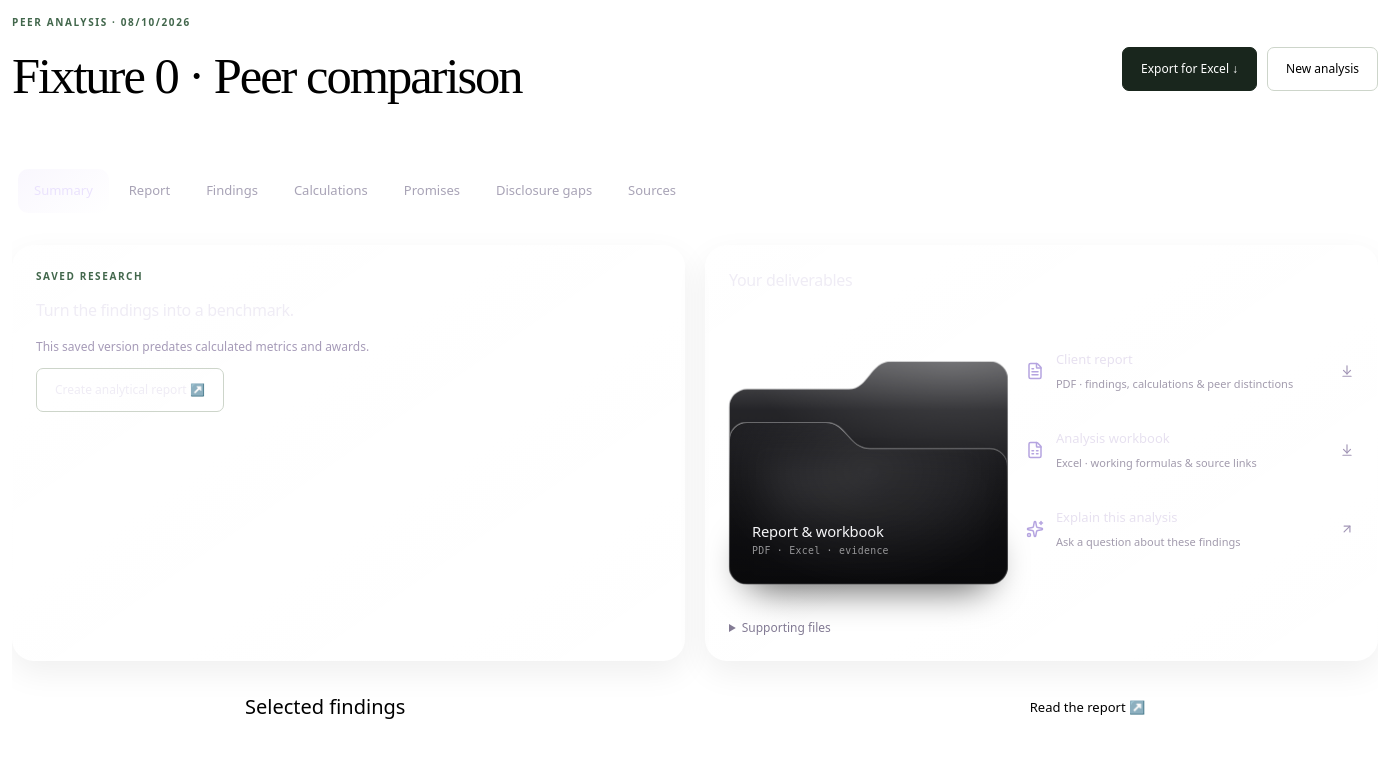
uses concise highlights with expandable detail and a topic filter
Click the button "Findings" at (232, 191), box [190,169,274,213]
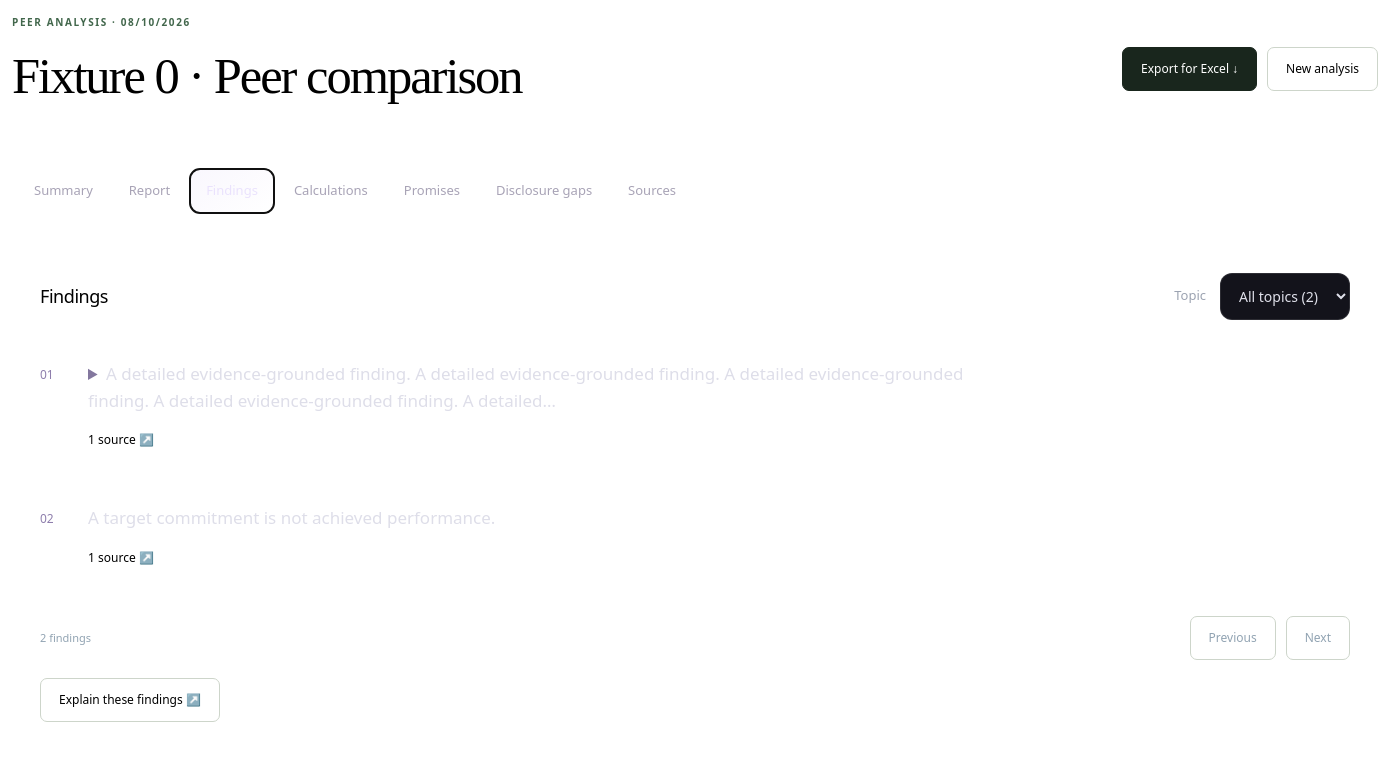
Select "Energy (1)" in the dropdown named "Finding topic" at (1285, 296), box [1220,273,1350,320]
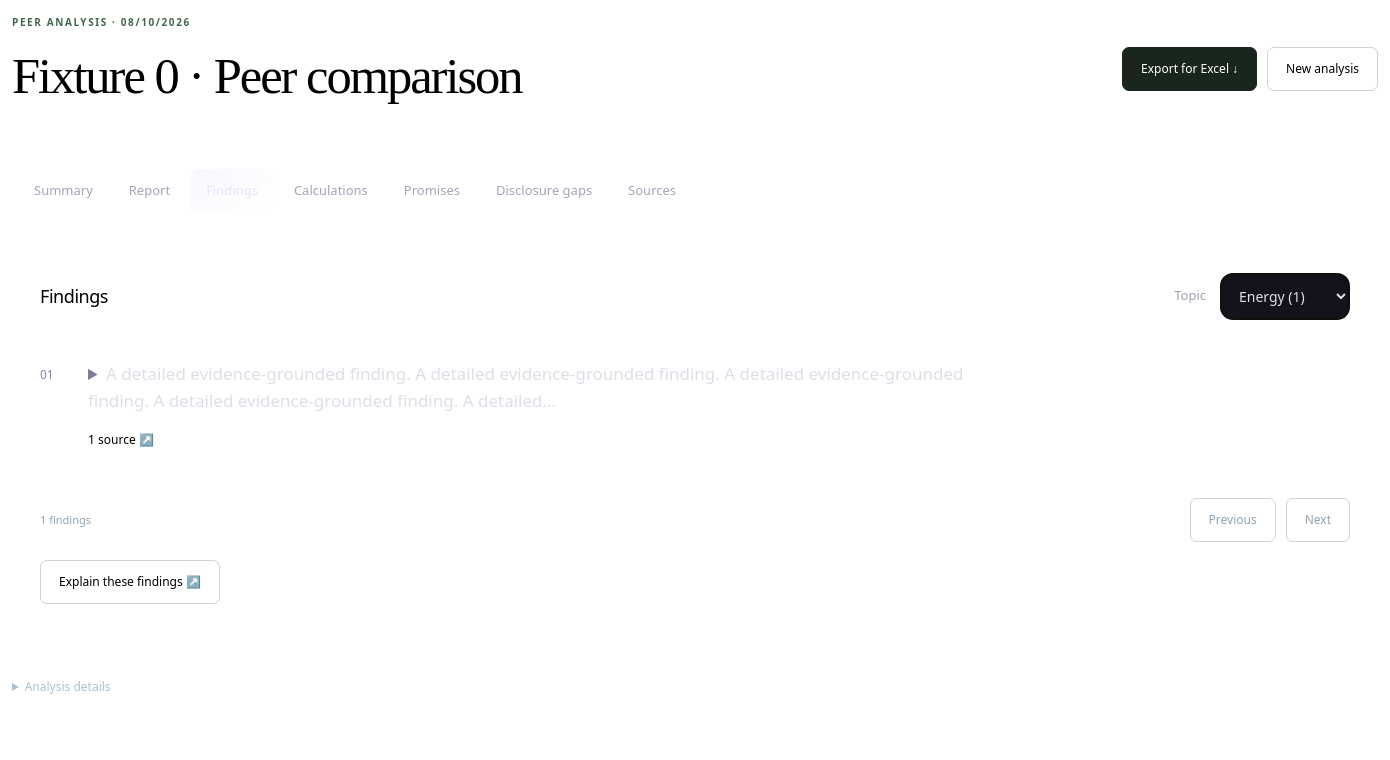
Click the 3rd heading at (528, 387), box [88,360,968,414]
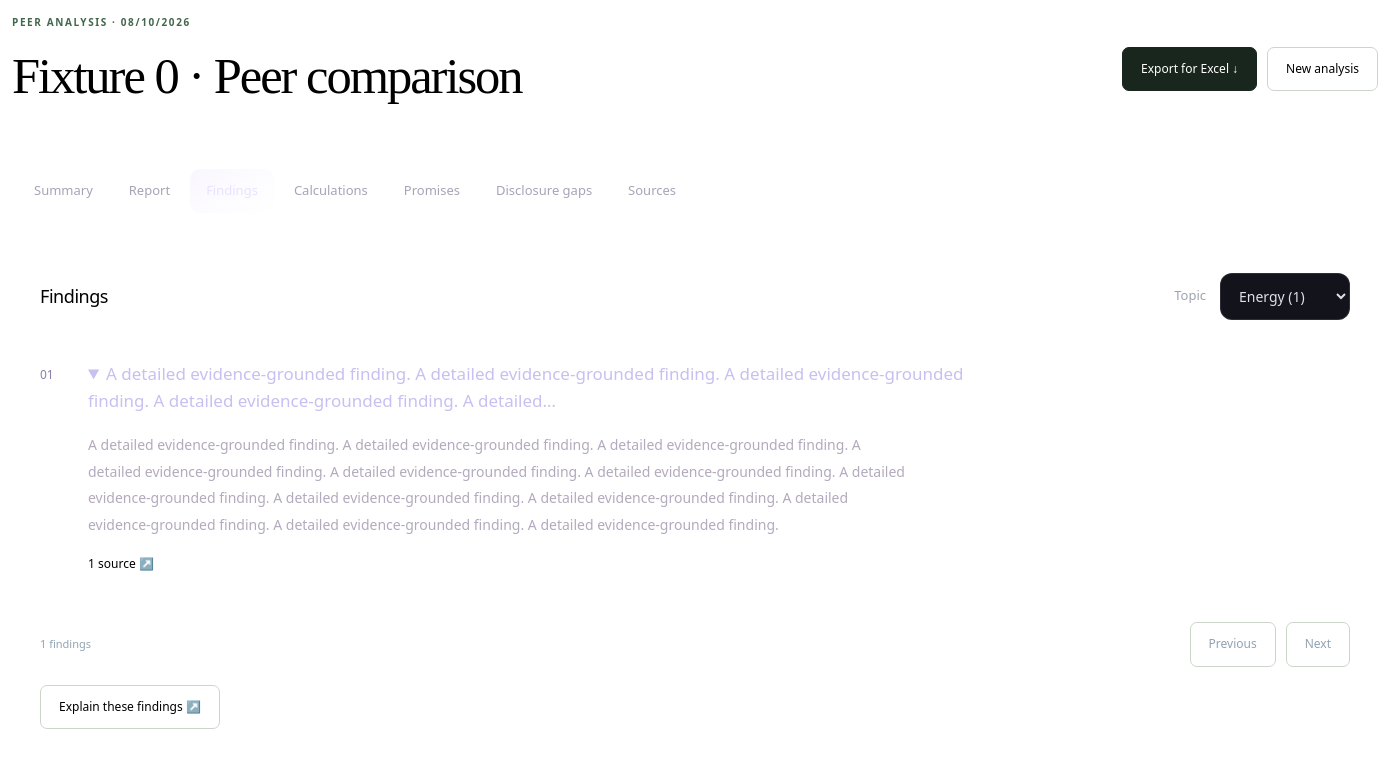
Expected: the text "A target commitment is not achieved performance." is not shown
Select "Targets (1)" in the dropdown named "Finding topic" at (1285, 296), box [1220,273,1350,320]
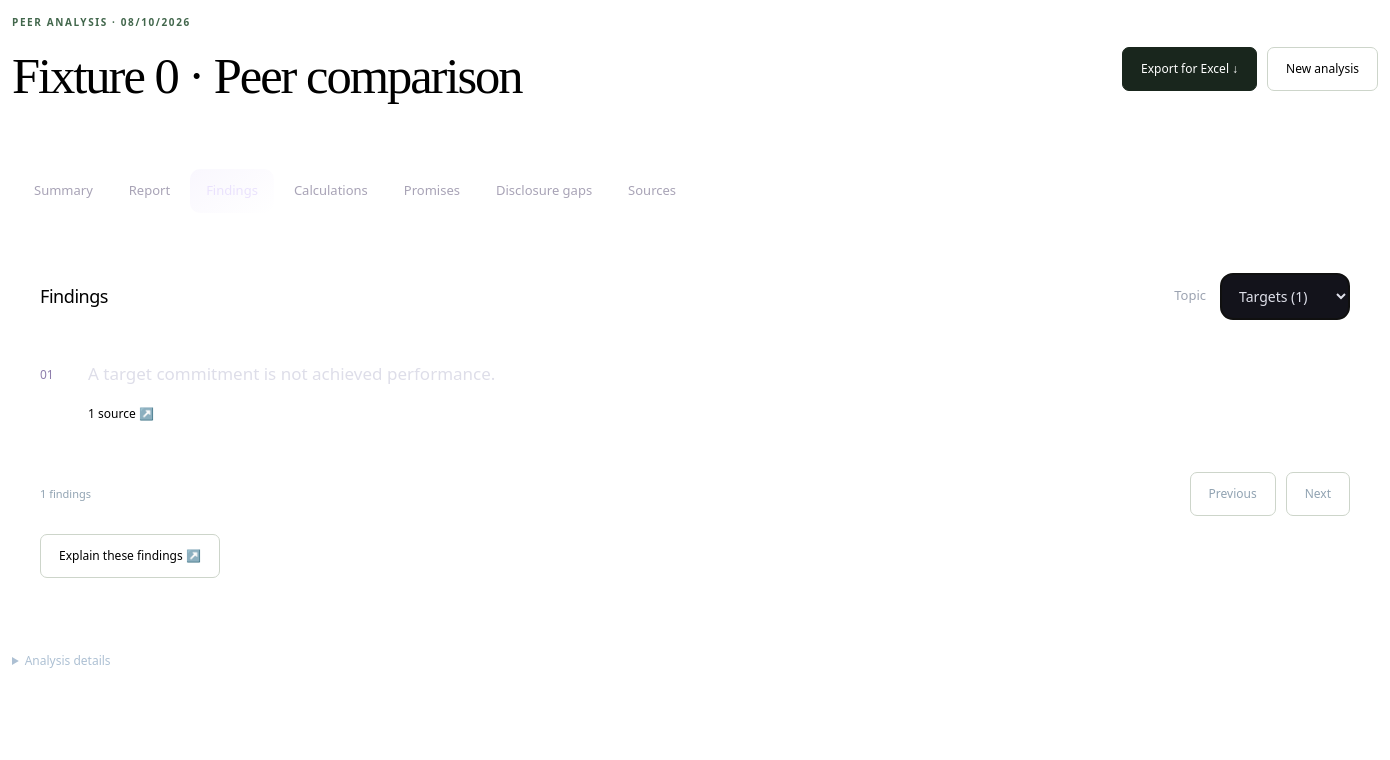
Now the text "A target commitment is not achieved performance." is shown, box [88,362,495,385]
